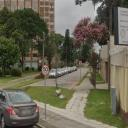speed_limit_50: (42, 64, 50, 76)
